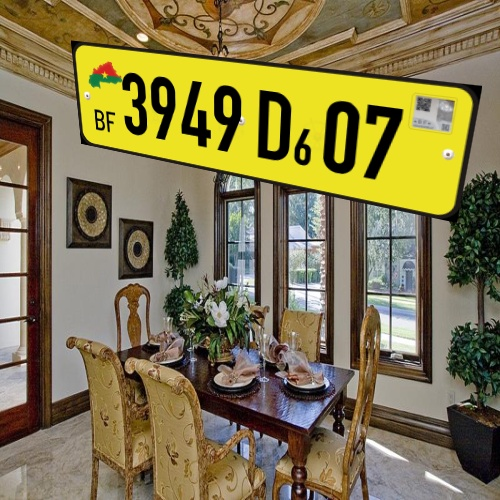plate: (62, 33, 494, 237)
